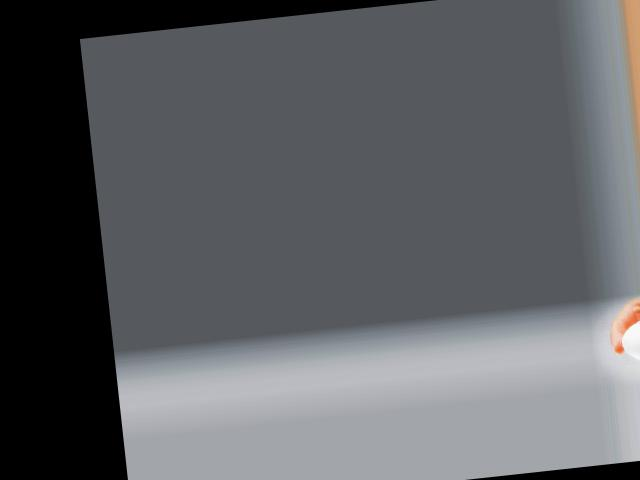egg: (618, 316, 640, 364)
